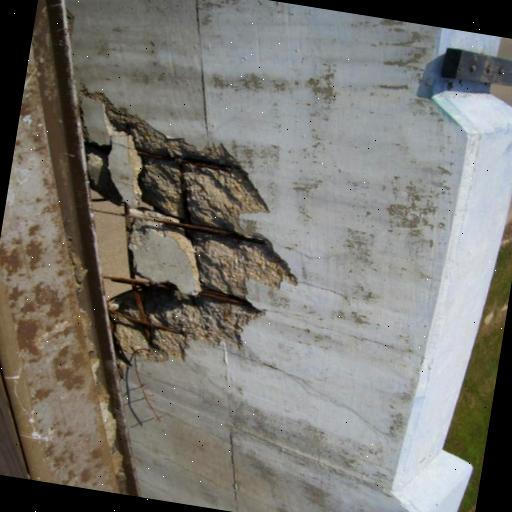spalling: (82, 76, 284, 373)
